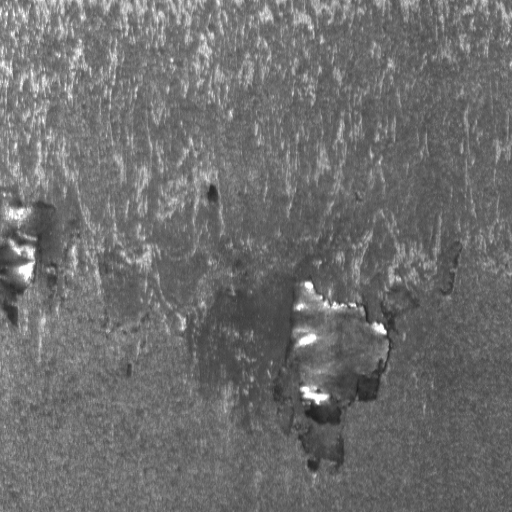qiaopi: (286, 275, 393, 427), (1, 184, 62, 301)
